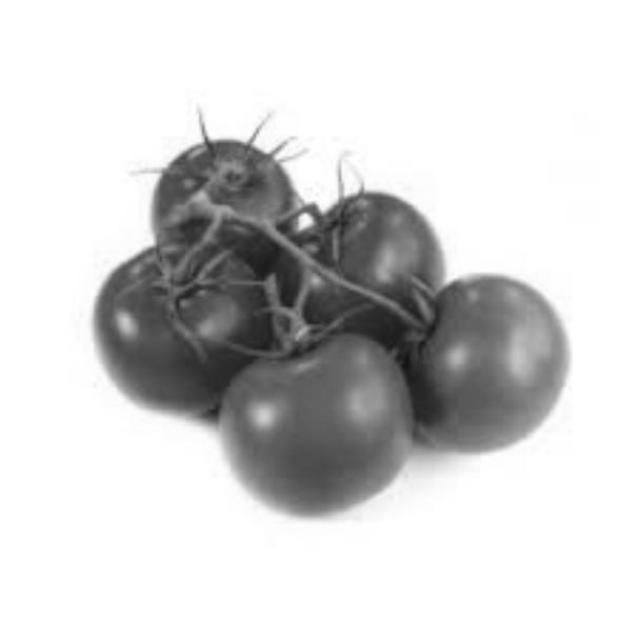tomato: (205, 308, 412, 521), (384, 268, 578, 452), (87, 240, 267, 408), (255, 191, 452, 344), (141, 126, 301, 293)
